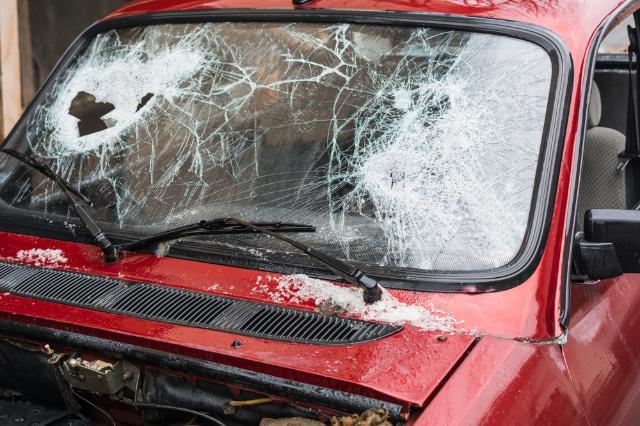glass shatter: (0, 24, 550, 272)
no part: (0, 320, 418, 426)
